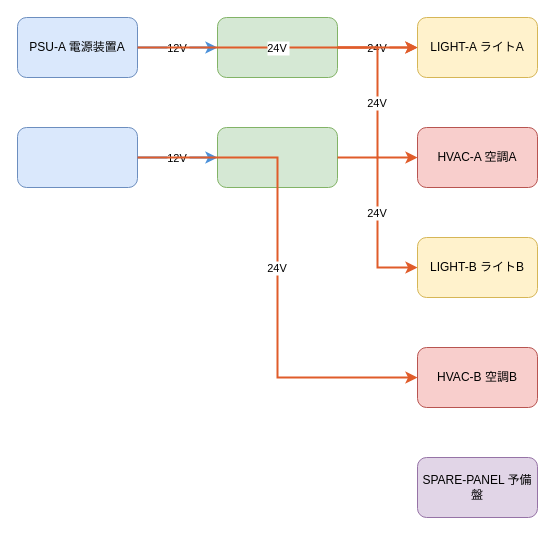
The diagram is 555 pixels wide and 535 high, and some of its shapes have lost their labels. The shapes that lost their labels are listed below. From the top down, each one's centre as x and y in pixels, then its label:
At pixel 277 47: "SW-A スイッチA".
At pixel 77 157: "PSU-B 電源装置B".
At pixel 277 157: "SW-B スイッチB".
